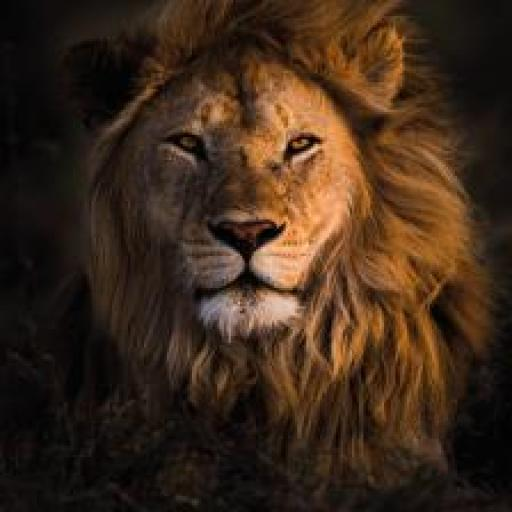lion: (45, 0, 505, 498)
